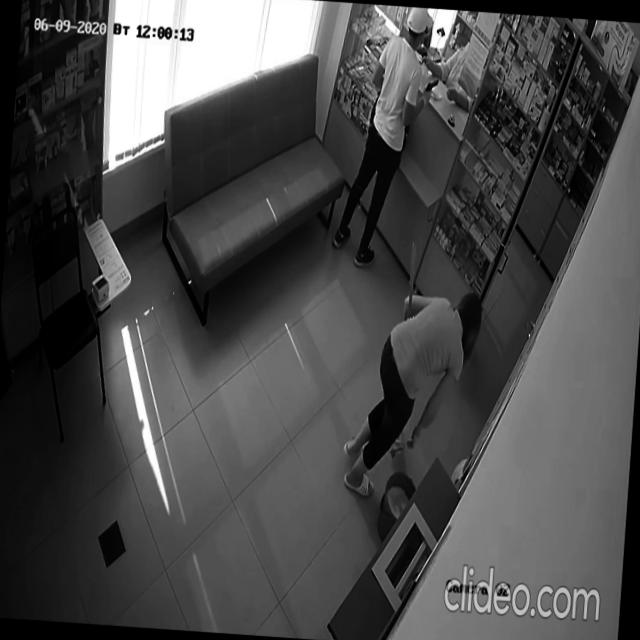gun: (425, 76, 438, 92)
person: (340, 282, 484, 508)
person with a gun: (329, 2, 444, 273)
